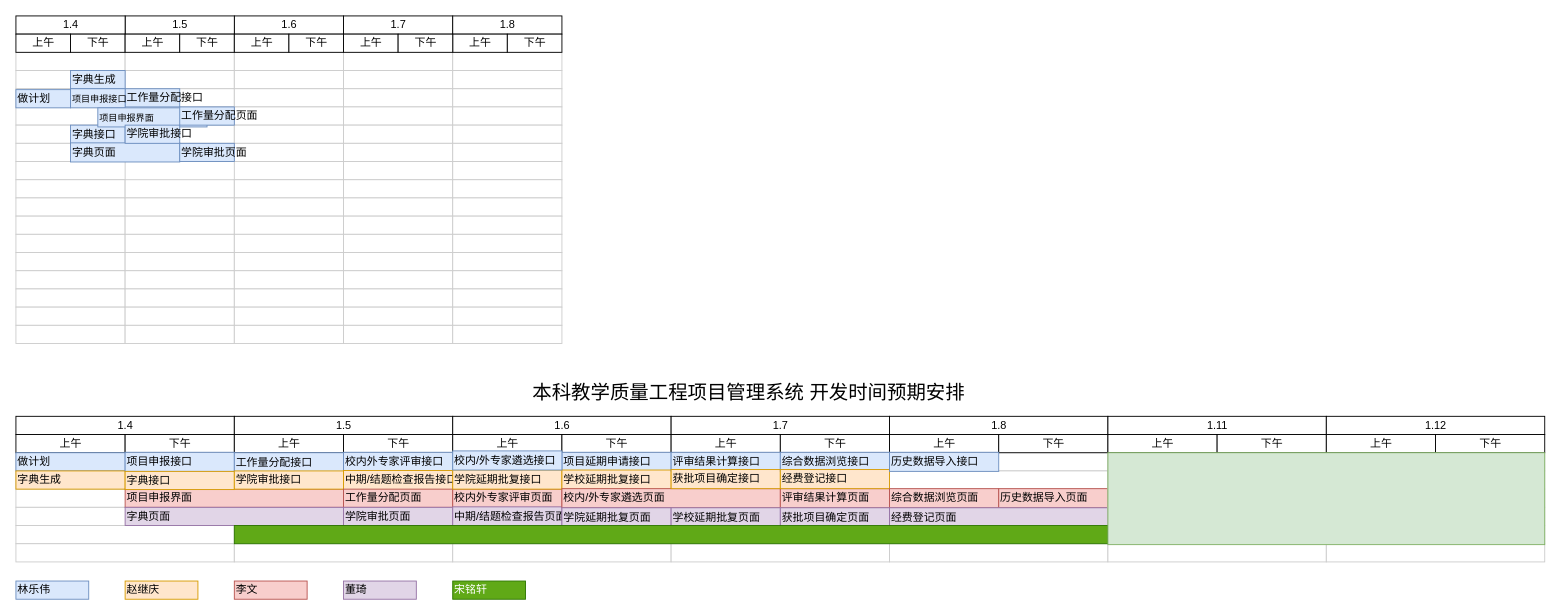
Image size: 1561x615. Some labels were removed from this diagram. Each missing label, with the centre of its shape:
"测试？" belongs at (670,534).
"预留时间" belongs at (1326,498).
